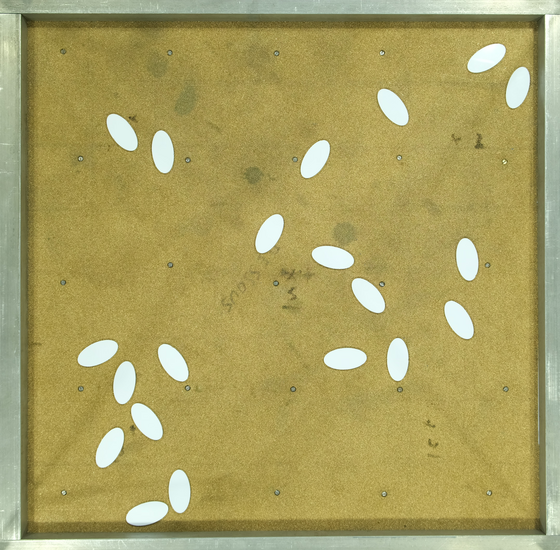pallet: (151, 342, 193, 385), (102, 111, 143, 155), (247, 212, 288, 256), (142, 129, 183, 173), (293, 135, 334, 179), (495, 65, 536, 109), (466, 35, 507, 79), (371, 84, 412, 128), (88, 425, 129, 469), (126, 398, 167, 442), (103, 360, 144, 404), (77, 331, 118, 375), (156, 469, 197, 513), (347, 272, 388, 316), (438, 297, 479, 341), (125, 491, 168, 532), (449, 233, 482, 286), (308, 241, 356, 274), (382, 332, 410, 383), (322, 344, 369, 373)
